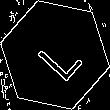L_NW: (26, 26, 84, 84)
